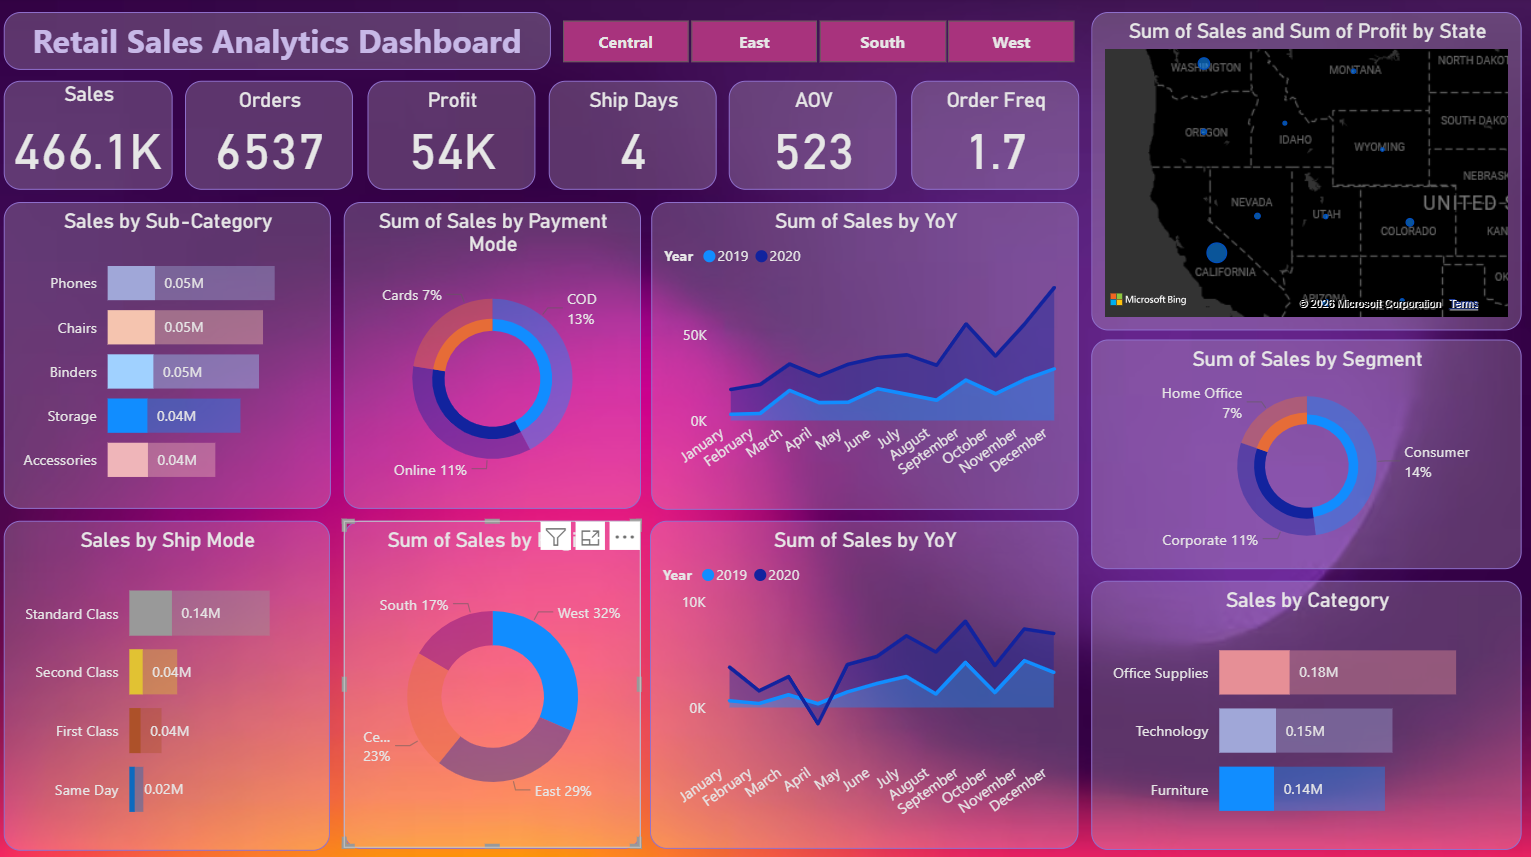

This screenshot's page, from the dashboard's own definition file:
{"tool":"powerbi","page":{"name":"Page 1","canvas":[1280,720],"ordinal":0},"visuals":[{"type":"clusteredBarChart","title":"Sales by Category","fields":{"Category":["SuperStore_Sales_Dataset.Category"],"Y":["Sum(SuperStore_Sales_Dataset.Sales)"]},"box":[912.9,484.3,357.1,222.9],"z":0},{"type":"clusteredBarChart","title":"Sales by Sub-Category","fields":{"Category":["SuperStore_Sales_Dataset.Sub-Category"],"Y":["Sum(SuperStore_Sales_Dataset.Sales)"]},"box":[11.1,170.1,271,254.4],"z":1000},{"type":"clusteredBarChart","title":"Sales by Ship Mode","fields":{"Category":["SuperStore_Sales_Dataset.Ship Mode"],"Y":["Sum(SuperStore_Sales_Dataset.Sales)"]},"box":[11.3,433.8,270.4,273.2],"z":2000},{"type":"stackedAreaChart","title":"Sum of Sales by YoY","fields":{"Y":["Sum(SuperStore_Sales_Dataset.Sales)"],"Category":["SuperStore_Sales_Dataset.Order Date.Variation.Date Hierarchy.Month"],"Series":["SuperStore_Sales_Dataset.Order Date.Variation.Date Hierarchy.Year"]},"box":[547.7,169.8,354.7,255],"z":3000},{"type":"map","fields":{"Category":["SuperStore_Sales_Dataset.State"],"Size":["Sum(SuperStore_Sales_Dataset.Sales)"]},"box":[912.9,12.9,357.1,264.3],"z":4000},{"type":"donutChart","fields":{"Category":["SuperStore_Sales_Dataset.Segment"],"Y":["Sum(SuperStore_Sales_Dataset.Sales)"]},"box":[912.9,284.3,357.1,190],"z":5000},{"type":"donutChart","fields":{"Category":["SuperStore_Sales_Dataset.Region"],"Y":["Sum(SuperStore_Sales_Dataset.Sales)"]},"box":[293,433.8,246.5,271.8],"z":6000},{"type":"donutChart","fields":{"Category":["SuperStore_Sales_Dataset.Payment Mode"],"Y":["Sum(SuperStore_Sales_Dataset.Sales)"]},"box":[293.1,170.1,246.1,254.4],"z":7000},{"type":"slicer","fields":{"Values":["SuperStore_Sales_Dataset.Region"]},"box":[448.6,12.9,474.3,48.6],"z":8000},{"type":"stackedAreaChart","title":"Sum of Sales by YoY","fields":{"Category":["SuperStore_Sales_Dataset.Order Date.Variation.Date Hierarchy.Month"],"Series":["SuperStore_Sales_Dataset.Order Date.Variation.Date Hierarchy.Year"],"Y":["Sum(SuperStore_Sales_Dataset.Profit)"]},"box":[547.5,434.1,355.3,272.4],"z":9000},{"type":"textbox","box":[11.1,12.4,453.5,48.4],"z":10000},{"type":"card","title":"Sales","fields":{"Values":["Sum(SuperStore_Sales_Dataset.Sales)"]},"box":[11.3,69,140,90],"z":11000},{"type":"card","title":"Orders","fields":{"Values":["Sum(SuperStore_Sales_Dataset.Quantity)"]},"box":[162,69,139.4,90.1],"z":12000},{"type":"card","title":"Profit","fields":{"Values":["Sum(SuperStore_Sales_Dataset.Profit)"]},"box":[312.7,69,139.4,90.1],"z":13000},{"type":"card","title":"Ship Days","fields":{"Values":["Avg(SuperStore_Sales_Dataset.AvgDelivery)"]},"box":[463.4,69,139.4,90.1],"z":14000},{"type":"card","title":"AOV","fields":{"Values":["Salesforecast.AOV"]},"box":[612.7,69,139.4,90.1],"z":15000},{"type":"card","title":"Order Freq","fields":{"Values":["Salesforecast.Orders per Customer"]},"box":[763.4,69,139.4,90.1],"z":16000}]}

Visuals, with their boxes in screenshot pixels (x1, y1, x2, y2), scaled from the page's 1280x720 canvas onto the 1531x857 screenshot:
"Sales by Category" clusteredBarChart: pyautogui.locateOnScreen(1092, 576, 1519, 842)
"Sales by Sub-Category" clusteredBarChart: pyautogui.locateOnScreen(13, 202, 337, 505)
"Sales by Ship Mode" clusteredBarChart: pyautogui.locateOnScreen(14, 516, 337, 842)
"Sum of Sales by YoY" stackedAreaChart: pyautogui.locateOnScreen(655, 202, 1079, 506)
map - SuperStore_Sales_Dataset.State x Sum(SuperStore_Sales_Dataset.Sales): pyautogui.locateOnScreen(1092, 15, 1519, 330)
donutChart - SuperStore_Sales_Dataset.Segment x Sum(SuperStore_Sales_Dataset.Sales): pyautogui.locateOnScreen(1092, 338, 1519, 565)
donutChart - SuperStore_Sales_Dataset.Region x Sum(SuperStore_Sales_Dataset.Sales): pyautogui.locateOnScreen(350, 516, 645, 840)
donutChart - SuperStore_Sales_Dataset.Payment Mode x Sum(SuperStore_Sales_Dataset.Sales): pyautogui.locateOnScreen(351, 202, 645, 505)
slicer - SuperStore_Sales_Dataset.Region: pyautogui.locateOnScreen(537, 15, 1104, 73)
"Sum of Sales by YoY" stackedAreaChart: pyautogui.locateOnScreen(655, 517, 1080, 841)
textbox: pyautogui.locateOnScreen(13, 15, 556, 72)
"Sales" card: pyautogui.locateOnScreen(14, 82, 181, 189)
"Orders" card: pyautogui.locateOnScreen(194, 82, 361, 189)
"Profit" card: pyautogui.locateOnScreen(374, 82, 541, 189)
"Ship Days" card: pyautogui.locateOnScreen(554, 82, 721, 189)
"AOV" card: pyautogui.locateOnScreen(733, 82, 900, 189)
"Order Freq" card: pyautogui.locateOnScreen(913, 82, 1080, 189)
